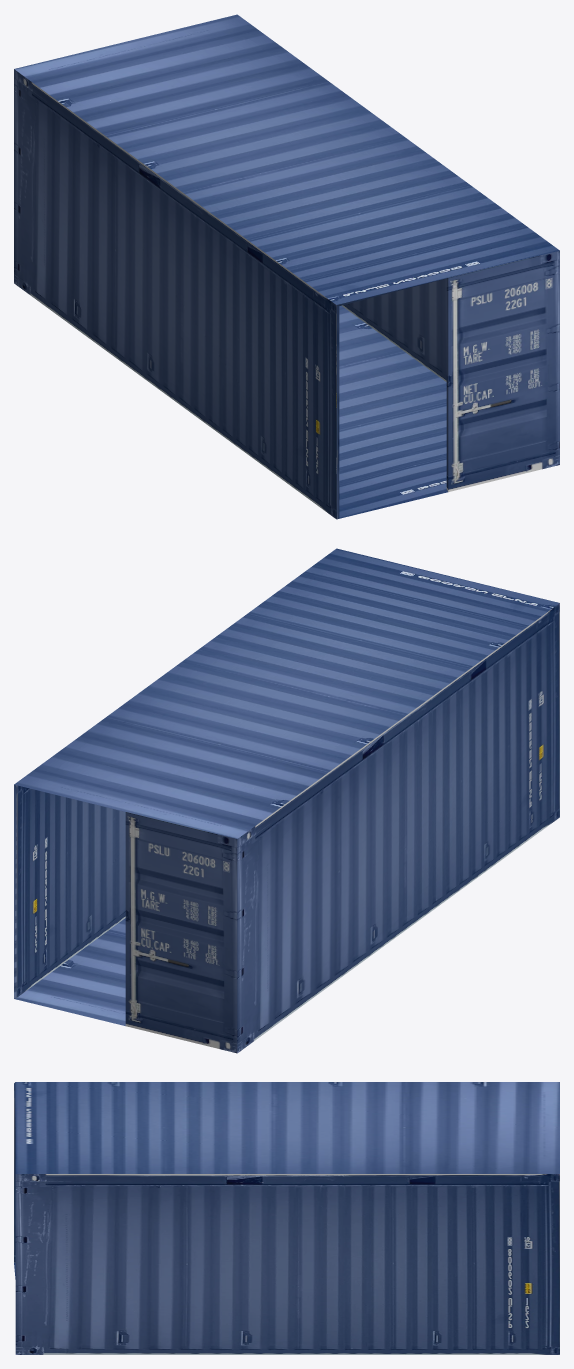
Rendered from container_b.glb.
3 renders of one model, top to bottom at view 1: azimuth 30°, elevation 25°; view 2: azimuth 150°, elevation 25°; view 3: azimuth 270°, elevation 25°, orthographic. The views are drawn at different scales.
Parts seen in each view (by area): view 1: container_b; view 2: container_b; view 3: container_b.
Part boxes in pixels (x1,y1,x2,y2): container_b: (14,14,559,519); container_b: (14,548,559,1053); container_b: (14,1082,559,1354).
Bounding box in the file's own units: 2.39 × 2.19 × 6.
1 material, 1 textured.
